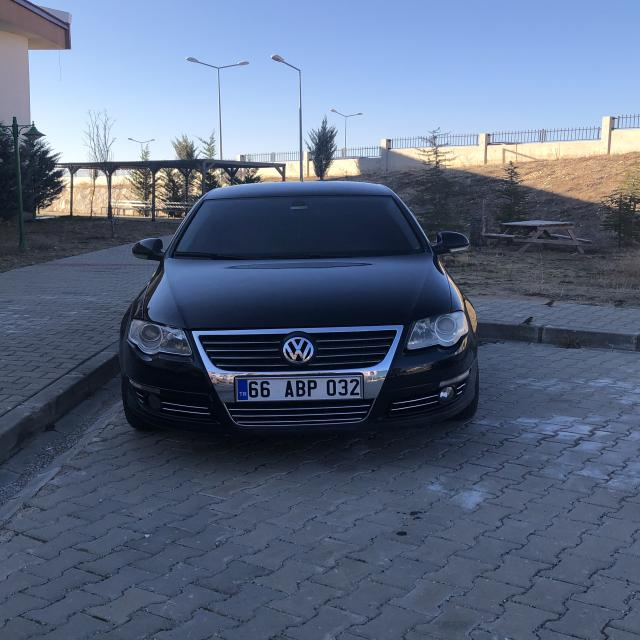license_plate: (234, 377, 363, 400)
